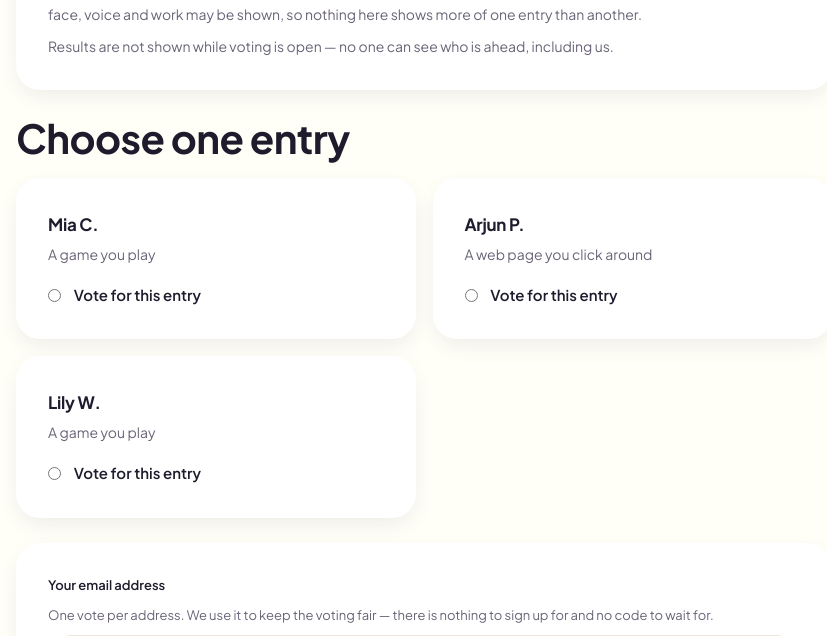
Test: PublicVotePage — the hidden tally (D-CCC-4) › tells the voter only that the vote was recorded — never their budget
(page scrolled)
Click the radio button labelled "Vote for this entry" below "Mia C.". click: (54, 295)
box: 48,289 -> 61,302
(page scrolled)
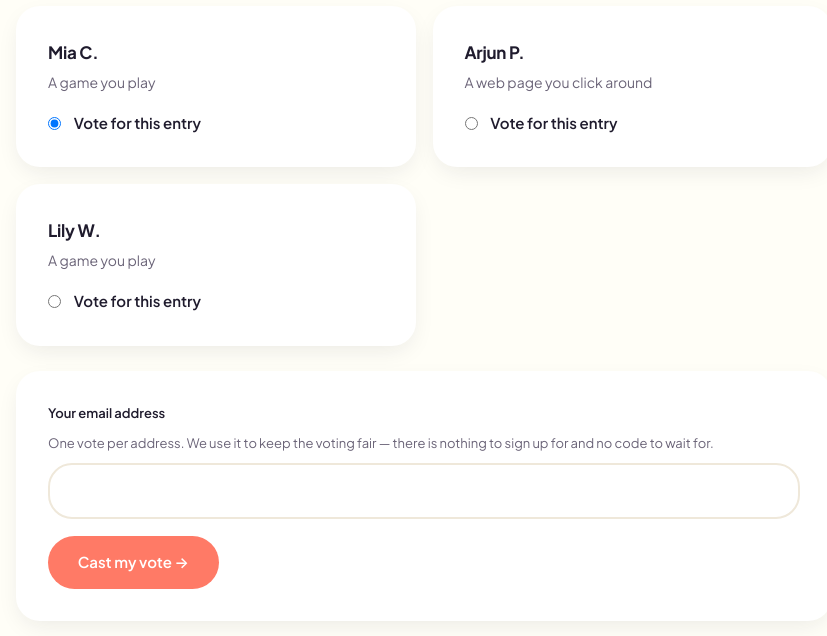
Type "grandma@example.com" into the field with test id "vote-email". click: (424, 491)
box: 48,463 -> 800,519
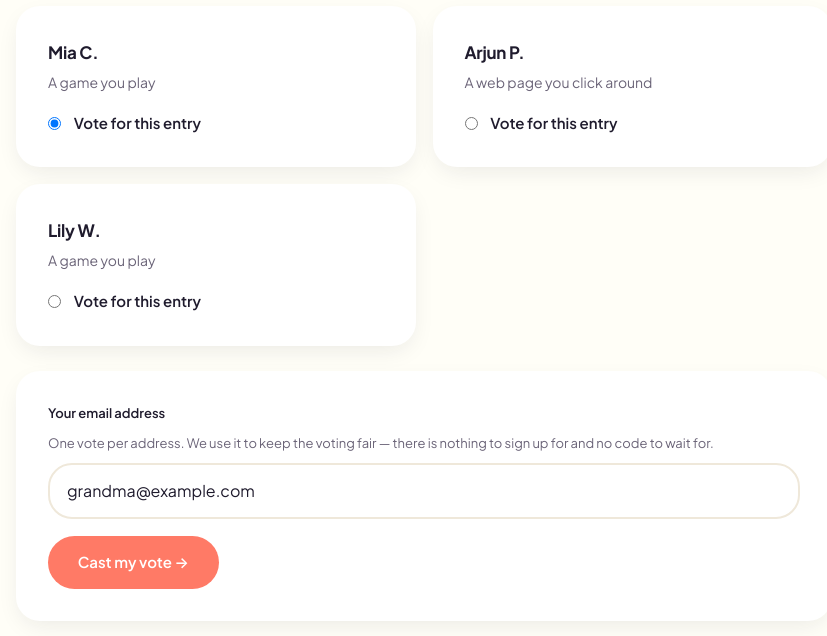
Click the button with test id "vote-submit". click: (133, 562)
box: 48,536 -> 219,589
(page scrolled)
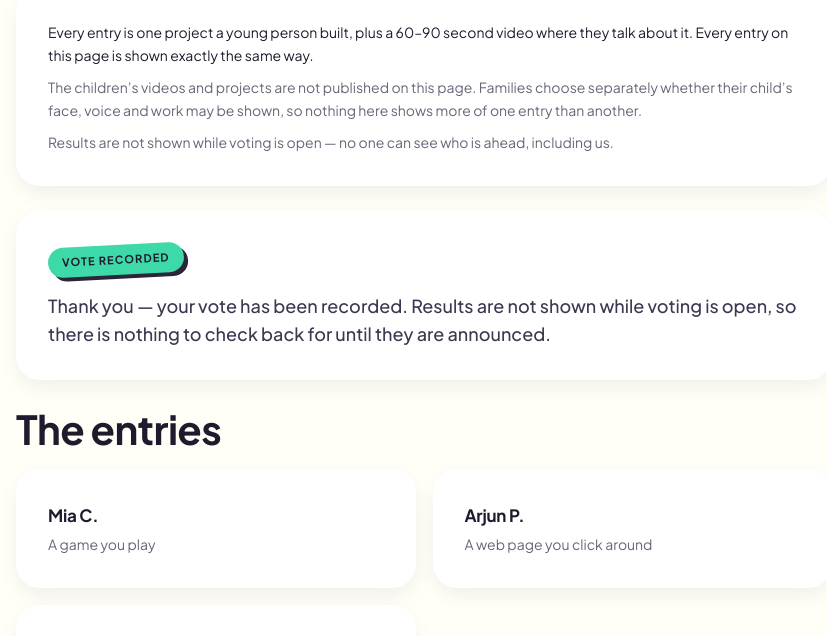
Expected: the message with test id "vote-receipt" shows "your vote has been recorded", 48,294 -> 797,345
